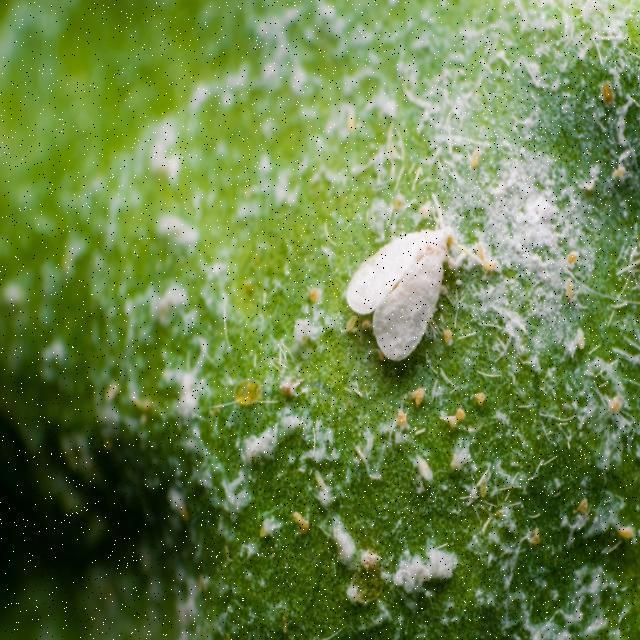Whiteflies: (329, 197, 497, 370)
